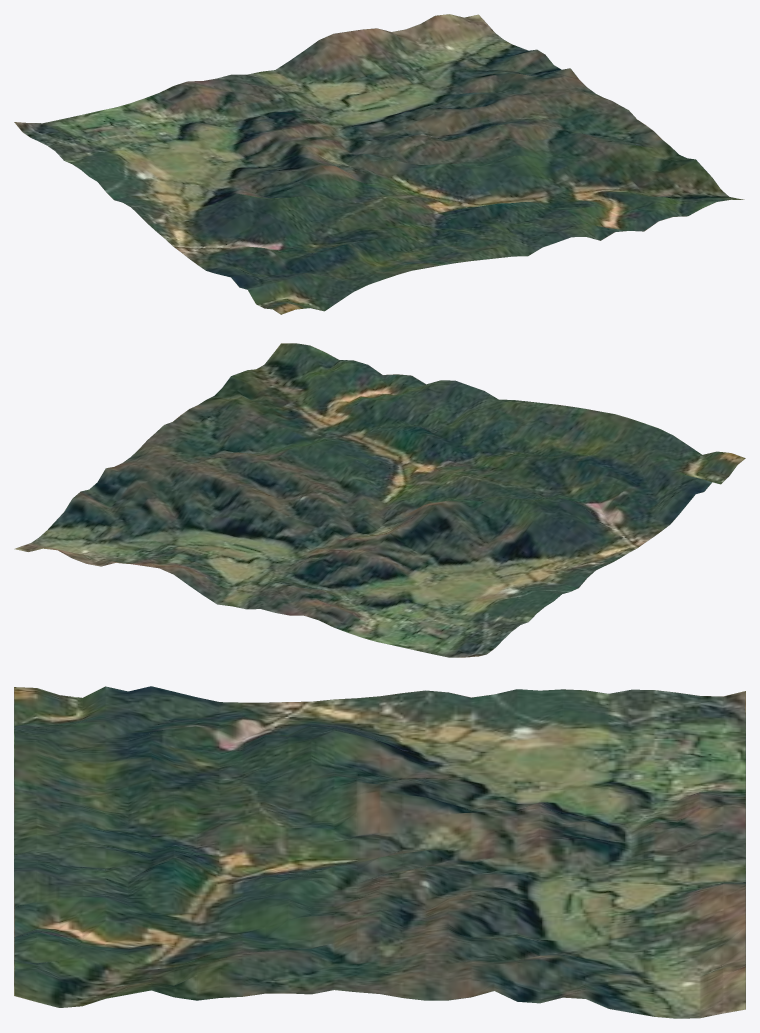
3 views of the same model, one above another, from view 1: azimuth 30°, elevation 25°; view 2: azimuth 150°, elevation 25°; view 3: azimuth 270°, elevation 25° (orthographic). The views are drawn at different scales.
Size of the model in its own units: 3904 by 223 by 3886.
1 material, 1 textured.
